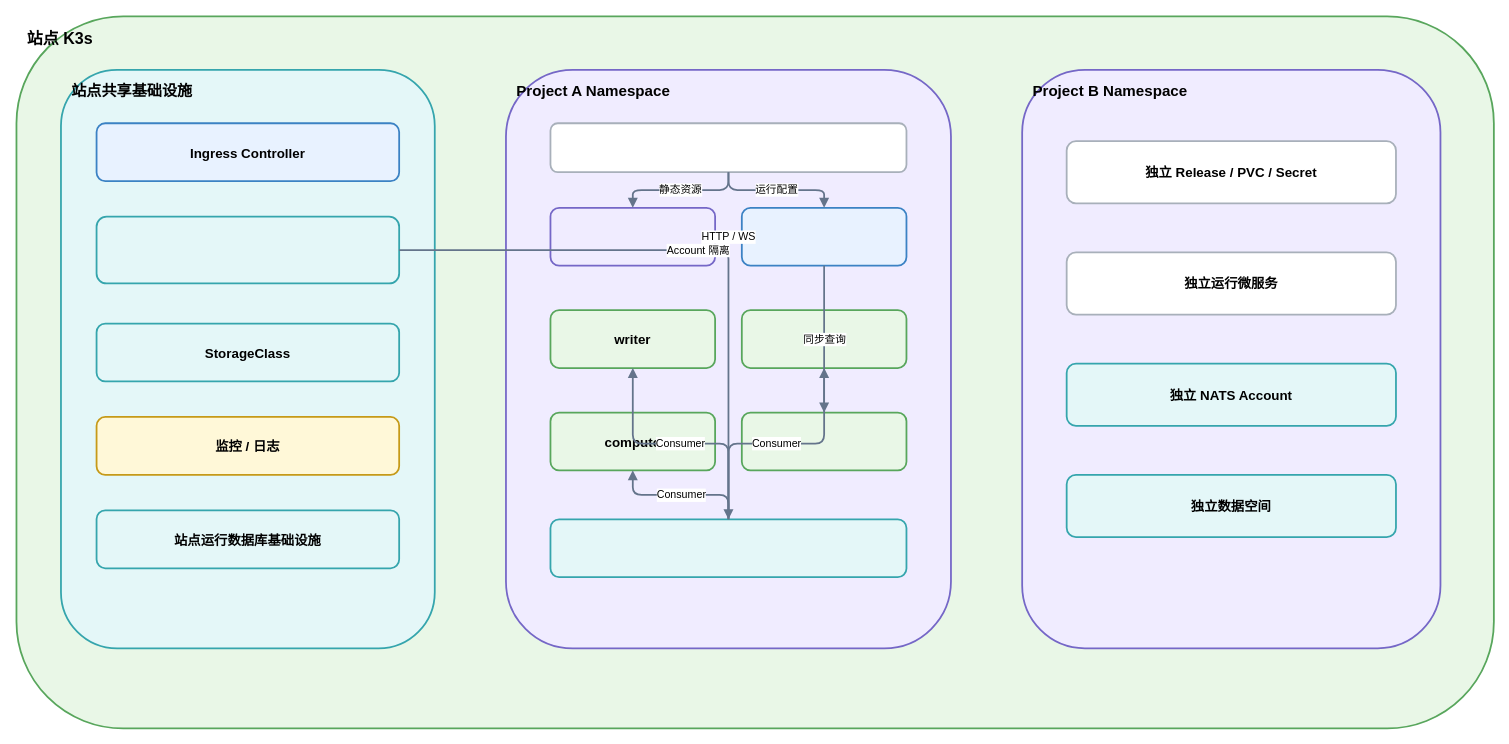
Some shapes in this 1509 by 744 pixel diagram are drawn without their labels. The centre of each missing label's shape, as x and y in pixels:
"NATS Account PROJECT_A" belongs at point 728,548.
"NATS JetStream 多工程 Account" belongs at point 247,249.
"project-nginx" belongs at point 632,236.
"query / coord" belongs at point 823,441.
"Release Loader Job → Project PVC" belongs at point 728,147.
"runtime-api" belongs at point 823,236.
